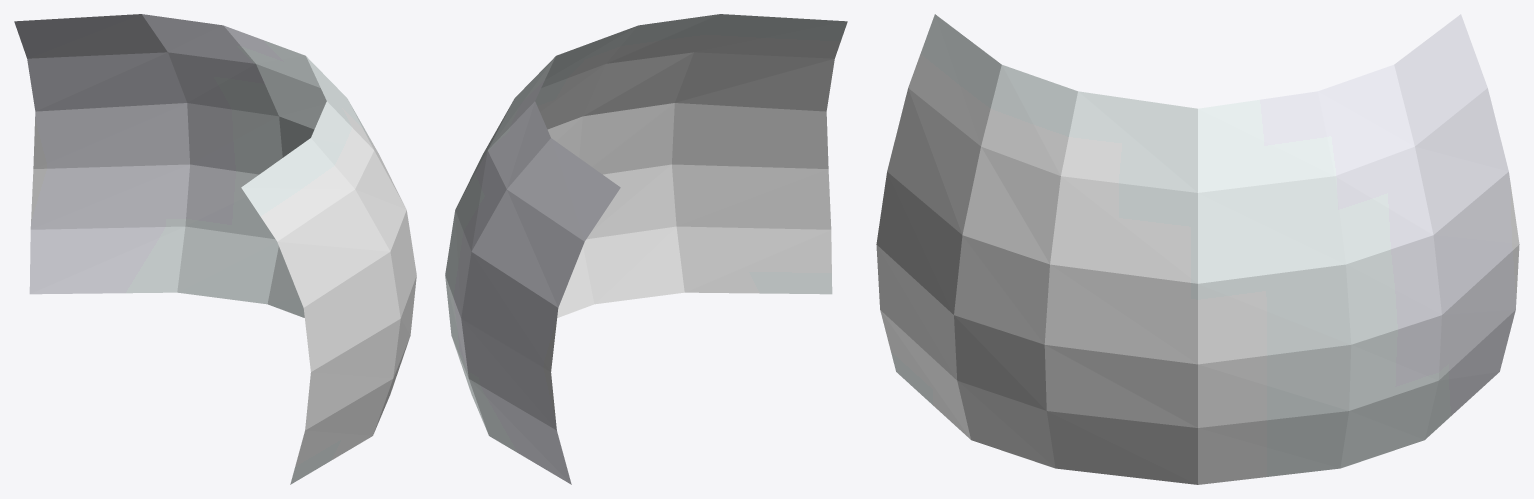
The picture shows the model from 3 angles, left to right: view 1: azimuth 30°, elevation 25°; view 2: azimuth 150°, elevation 25°; view 3: azimuth 270°, elevation 25°; orthographic projection. The views are drawn at different scales.
Parts seen in each view (by area): view 1: mesh_F74E42312CA924A8; view 2: mesh_F74E42312CA924A8; view 3: mesh_F74E42312CA924A8.
Boxes of the visible parts, bbox=[...] form: mesh_F74E42312CA924A8: bbox=[14, 14, 416, 484]; mesh_F74E42312CA924A8: bbox=[445, 14, 847, 484]; mesh_F74E42312CA924A8: bbox=[876, 14, 1519, 484].
Size of the model in its own units: 1.38 by 1.53 by 2.55.
